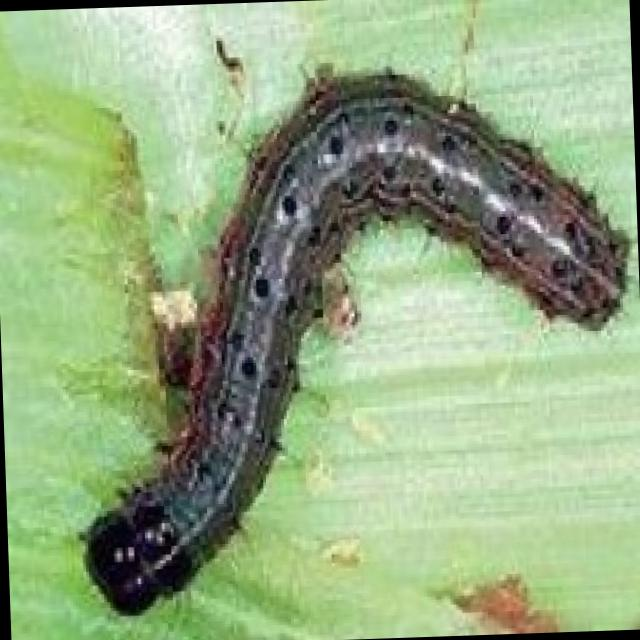armyworm: (41, 49, 640, 640)
